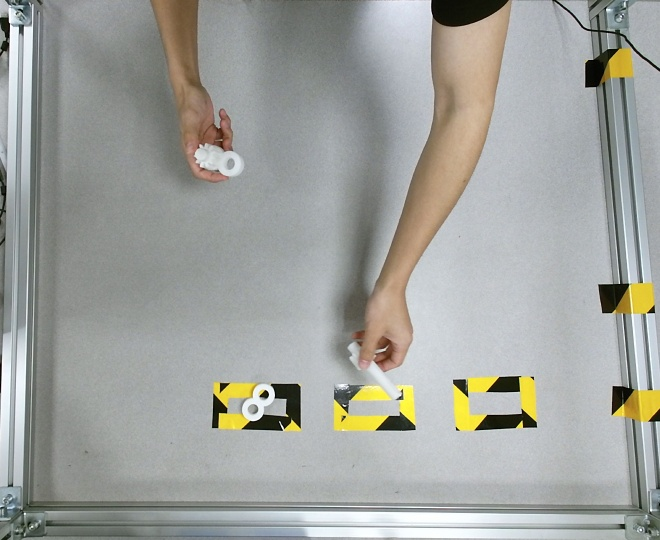stage_2: (193, 143, 245, 177)
